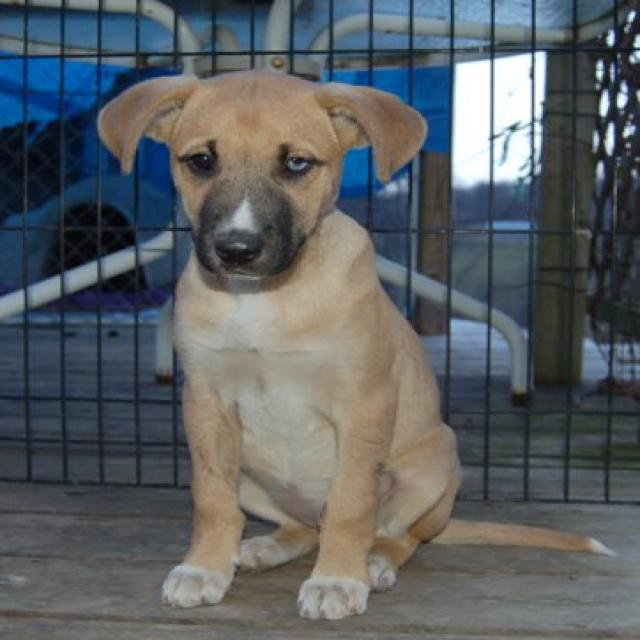Dogs: (94, 67, 617, 620)
